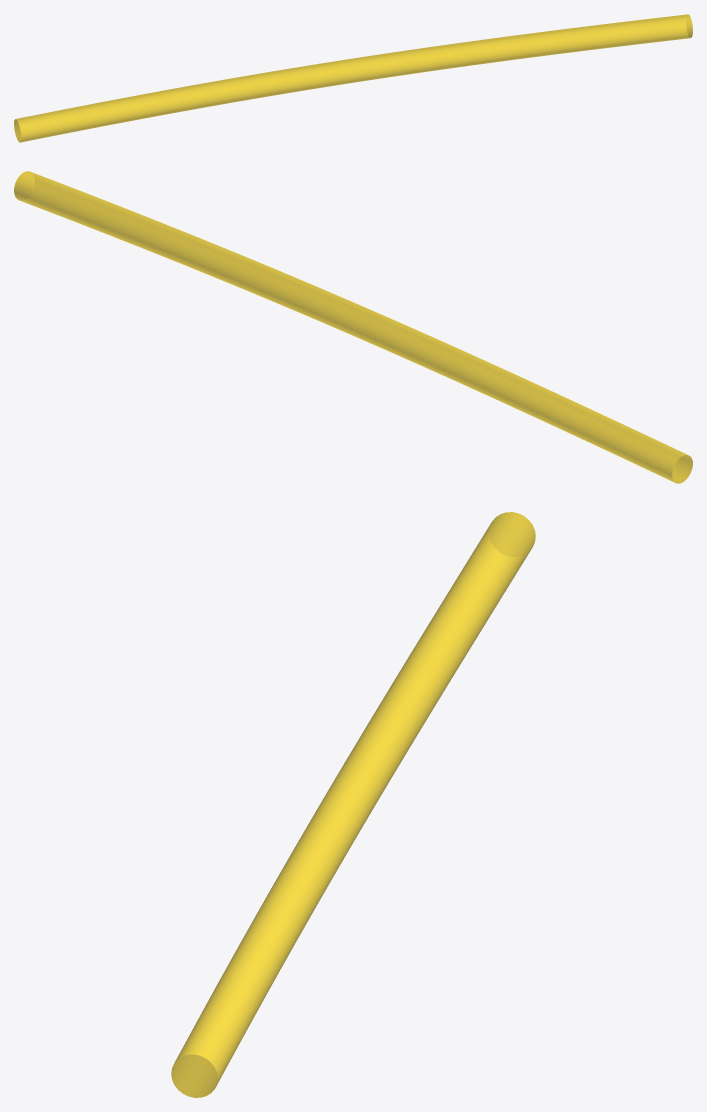
File: Event_27938768_track_79.fbx
3 renders of one model, top to bottom at view 1: azimuth 30°, elevation 25°; view 2: azimuth 150°, elevation 25°; view 3: azimuth 270°, elevation 25°, orthographic. The views are drawn at different scales.
Visible parts, largest first — view 1: Model; view 2: Model; view 3: Model.
Boxes of the visible parts, <box> form: Model: <box>14,14,692,142</box>; Model: <box>14,171,692,483</box>; Model: <box>171,512,535,1097</box>.
Size of the model in its own units: 1.15 by 0.0751 by 0.3031.
